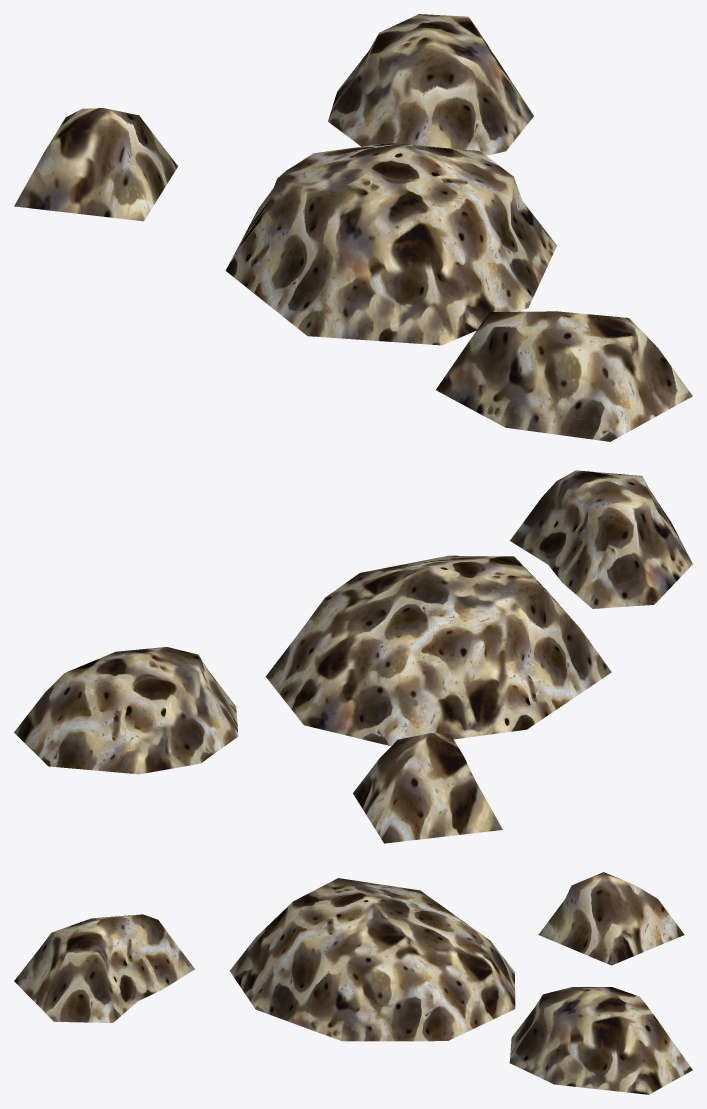
The model's file is CoralStone-04_LOD0.fbx.
3 views of the same model, one above another, from view 1: azimuth 30°, elevation 25°; view 2: azimuth 150°, elevation 25°; view 3: azimuth 270°, elevation 25° (orthographic). The views are drawn at different scales.
Visible parts, largest first — view 1: CoralStone-04_high; view 2: CoralStone-04_high; view 3: CoralStone-04_high.
Boxes of the visible parts, x1=… form: CoralStone-04_high: x1=14, y1=14, x2=692, y2=441; CoralStone-04_high: x1=14, y1=470, x2=692, y2=843; CoralStone-04_high: x1=14, y1=872, x2=692, y2=1094.
Size of the model in its own units: 0.3371 by 0.0733 by 0.5075.
